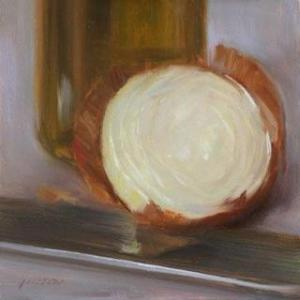onion: (94, 60, 276, 224)
